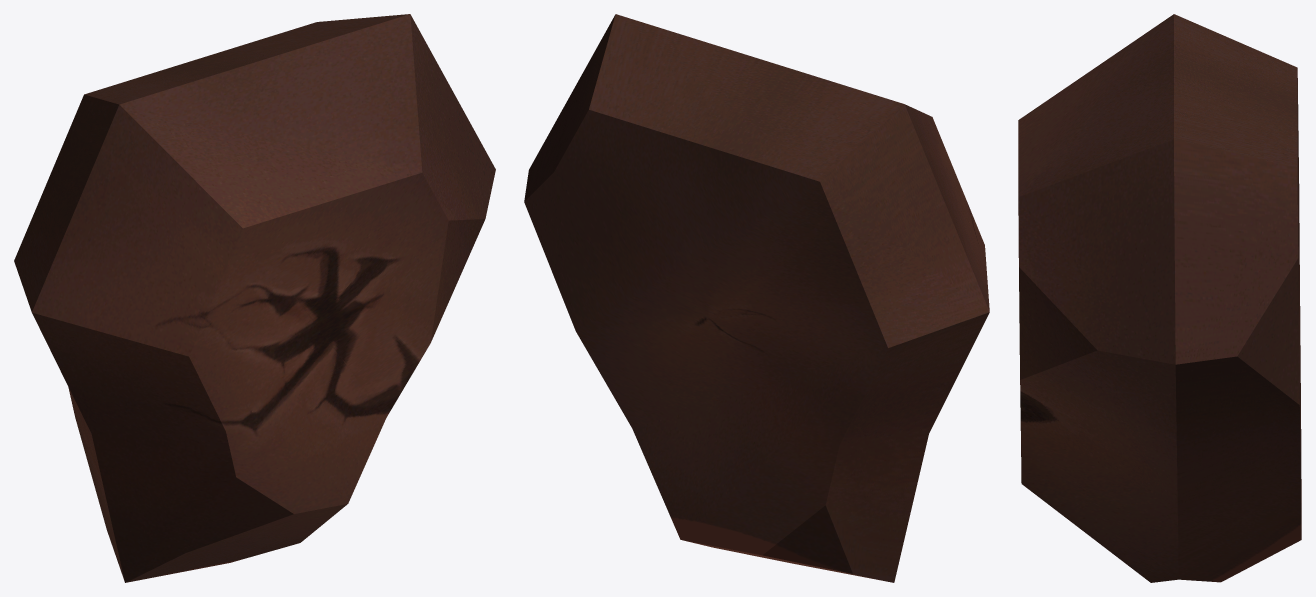
Rendered from runestone 2.fbx.
3 views of the same model, side by side, from view 1: azimuth 30°, elevation 25°; view 2: azimuth 150°, elevation 25°; view 3: azimuth 270°, elevation 25° (orthographic). The views are drawn at different scales.
Parts seen in each view (by area): view 1: node_id4; view 2: node_id4; view 3: node_id4.
Boxes of the visible parts, x1,y1,x2,y2 form: node_id4: (14,14,495,582); node_id4: (524,14,989,582); node_id4: (1018,14,1301,582).
Bounding box in the file's own units: 0.4402 × 0.46 × 0.2268.
Materials: 1 (1 with a texture image).
